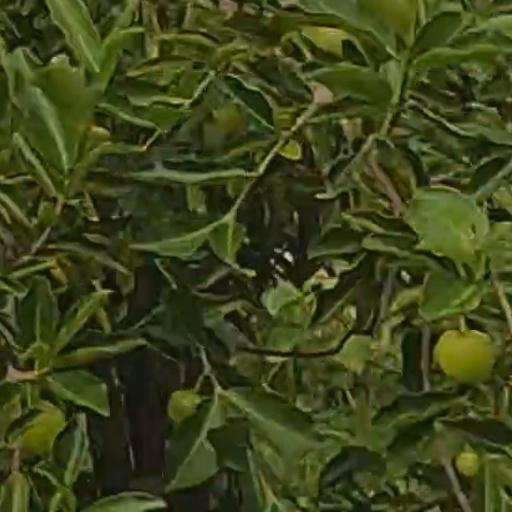acerola_verde: (436, 330, 493, 384)
